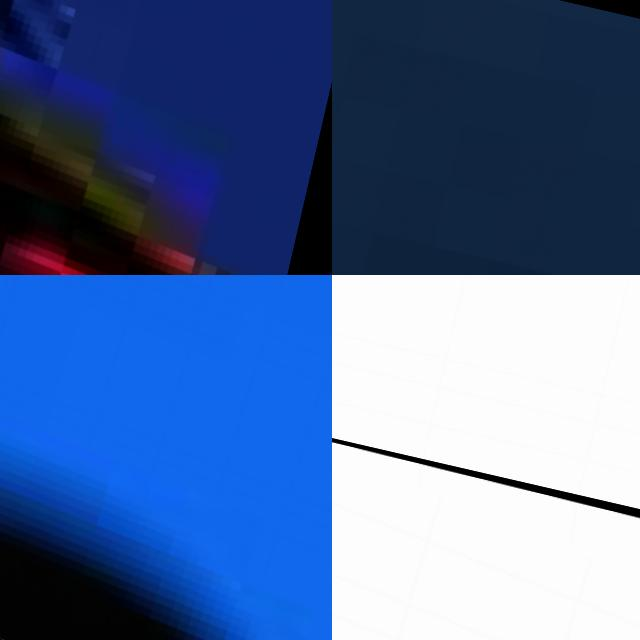drone: (0, 275, 332, 640), (0, 0, 332, 275), (332, 381, 640, 640)
